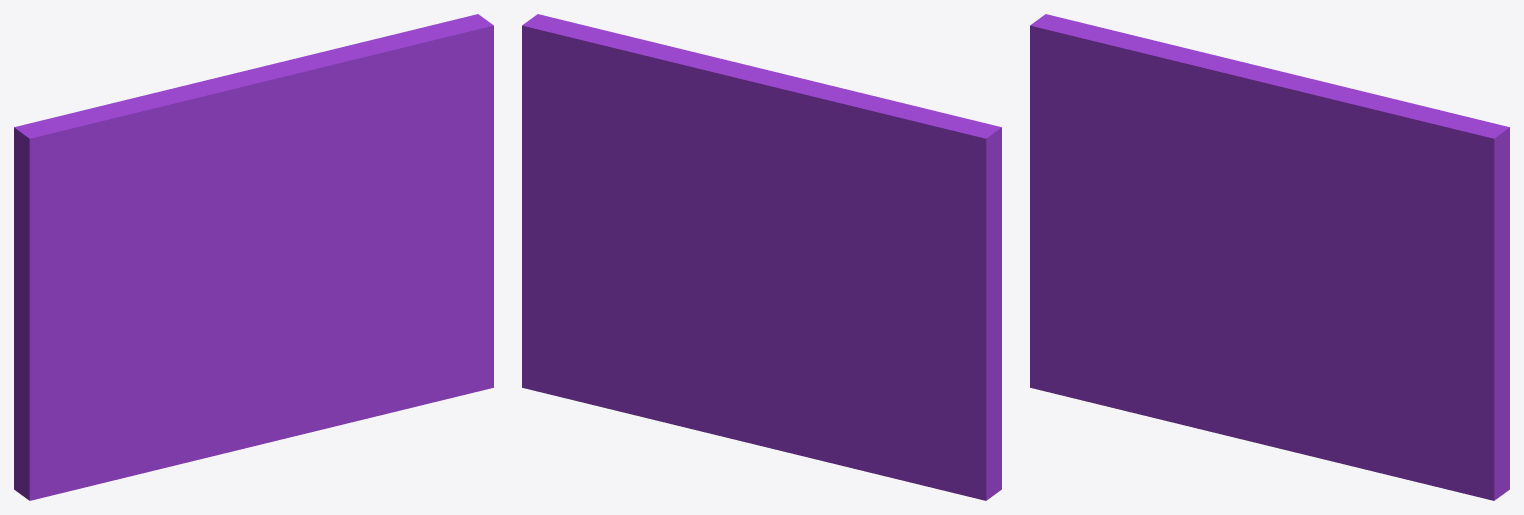
File: Barrier_21_chunks.fbx
3 renders of one model, left to right at view 1: azimuth 30°, elevation 25°; view 2: azimuth 150°, elevation 25°; view 3: azimuth 330°, elevation 25°, orthographic.
Parts seen in each view (by area): view 1: Barrier_21_3, Barrier_21_2, Barrier_21_1, Barrier_21_0; view 2: Barrier_21_2, Barrier_21_3, Barrier_21_1; view 3: Barrier_21_2, Barrier_21_3, Barrier_21_1, Barrier_21_0.
Part boxes in pixels (box(x1,y1,x2,y2)): Barrier_21_3: box(14, 47, 368, 329); Barrier_21_2: box(334, 14, 493, 413); Barrier_21_1: box(14, 267, 388, 500); Barrier_21_0: box(248, 127, 337, 348); Barrier_21_2: box(522, 14, 760, 416); Barrier_21_3: box(659, 44, 1001, 329); Barrier_21_1: box(641, 265, 1001, 500); Barrier_21_2: box(1334, 93, 1509, 500); Barrier_21_3: box(1030, 14, 1372, 260); Barrier_21_1: box(1030, 216, 1388, 474); Barrier_21_0: box(1248, 162, 1337, 385).
Size of the model in its own units: 381 by 284 by 22.39.
